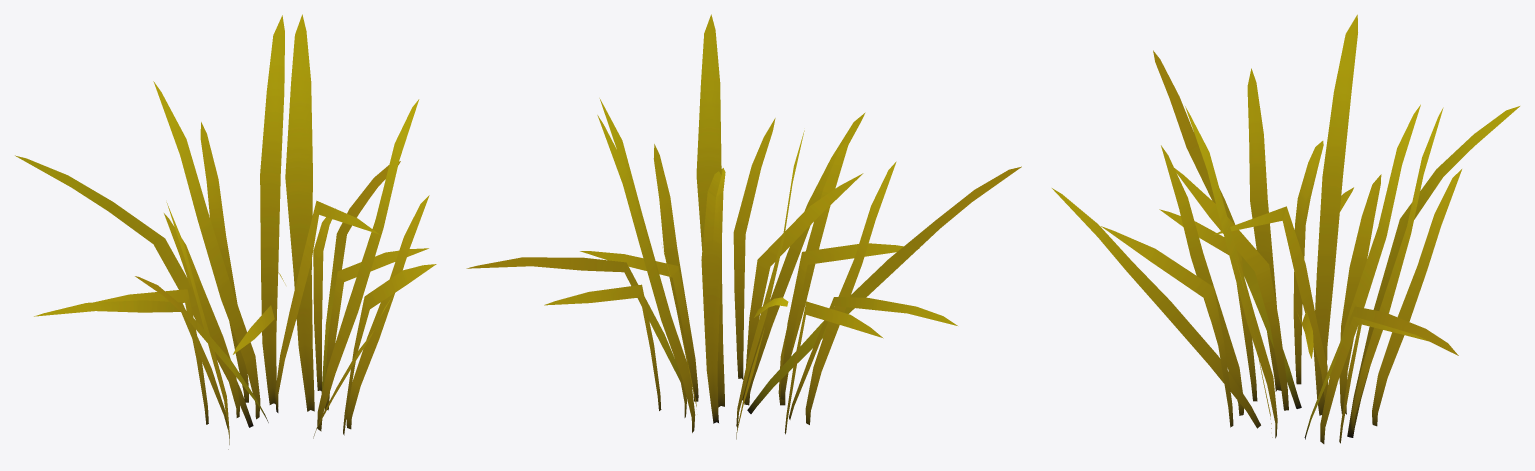
File: grass-wispy-msr9zx66vu-transformed.glb
3 views of the same model, side by side, from view 1: azimuth 30°, elevation 25°; view 2: azimuth 150°, elevation 25°; view 3: azimuth 270°, elevation 25° (orthographic). The views are drawn at different scales.
Parts seen in each view (by area): view 1: Grass_Wispy_Short; view 2: Grass_Wispy_Short; view 3: Grass_Wispy_Short.
Boxes of the visible parts, box(x1,y1,x2,y2) form: Grass_Wispy_Short: box(15, 14, 436, 449); Grass_Wispy_Short: box(466, 14, 1021, 439); Grass_Wispy_Short: box(1052, 14, 1519, 443).
Size of the model in its own units: 1.32 by 1.07 by 1.21.
1 material, 1 textured.
